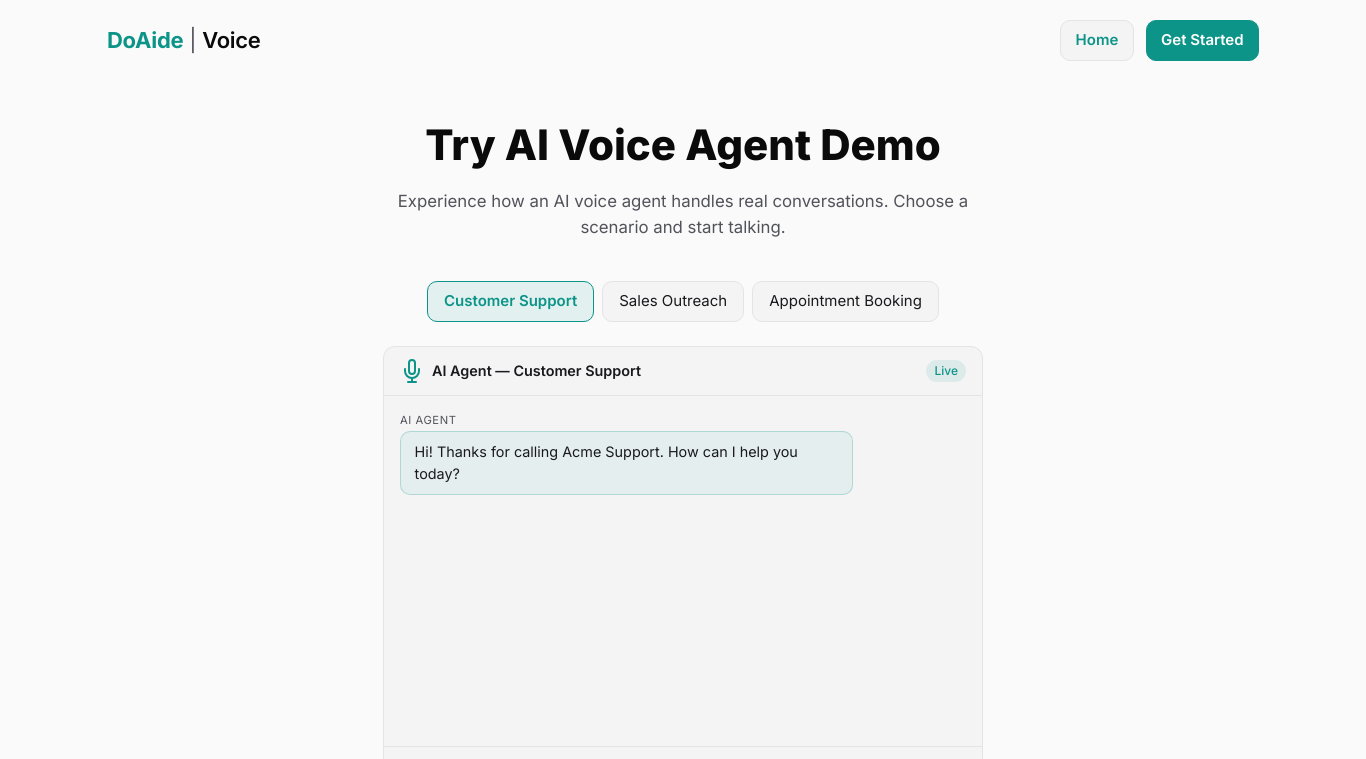
Test: Demo page › switches scenarios
This screenshot has width=1366, height=759.
Click the button "Sales Outreach": (673, 302) [602, 281, 744, 322]
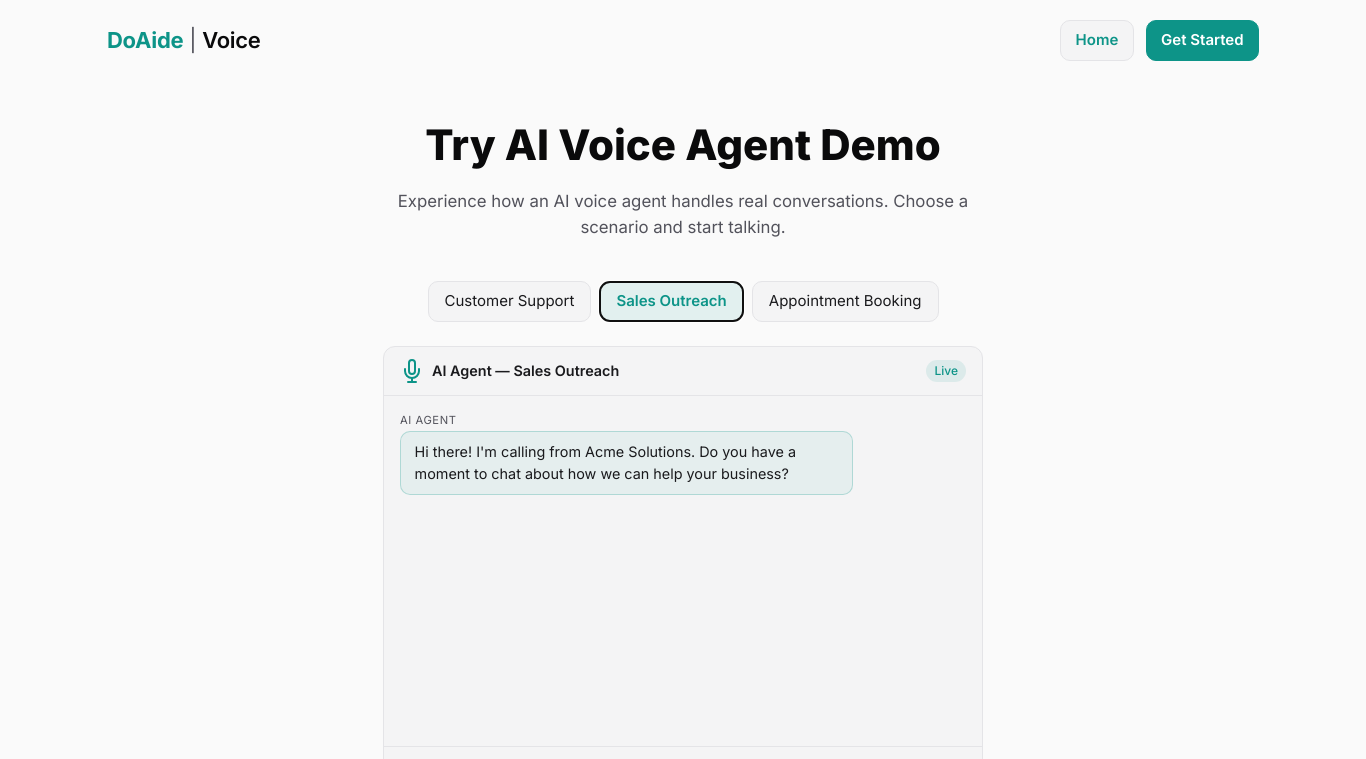
Expected: the text "calling from Acme Solutions" is shown, [415, 443, 796, 482]
